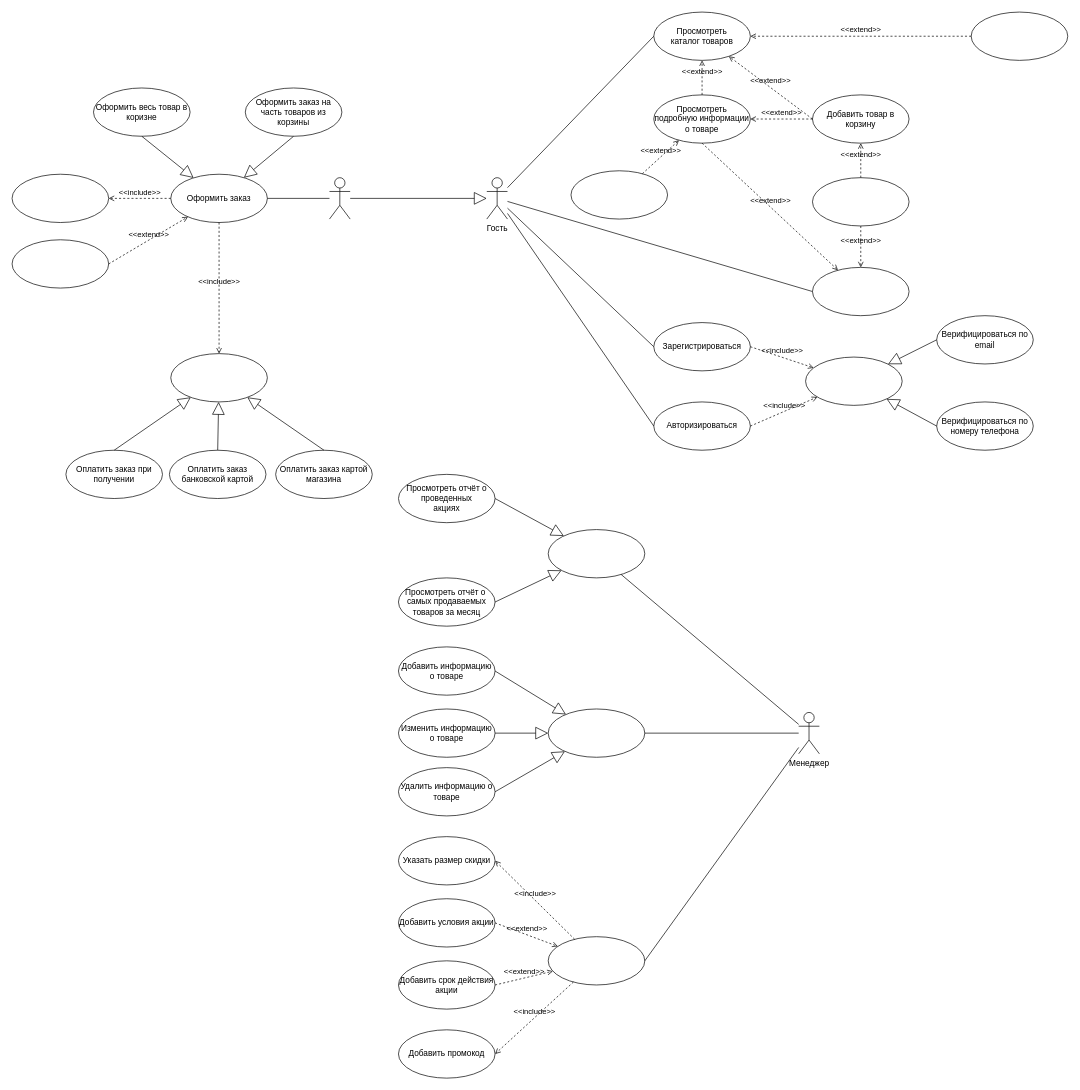
The diagram is 1080 pixels wide and 1090 high, and some of its shapes have lost their labels. Here are the shapes that lost their labels. From the top down, the centre of each, then its label:
At [1019,35]: "Фильтровать по ключевым словам".
At [60,198]: "Указать адрес доставки".
At [339,198]: "Покупатель".
At [619,194]: "Просмотреть спискок отзывов товара".
At [860,201]: "Изменить количество заказанного товара".
At [60,263]: "Указать промокод".
At [860,291]: "Просмотреть корзину".
At [218,377]: "Оплатить заказ".
At [853,380]: "Верифицироваться".
At [596,553]: "Просмотреть отчёт".
At [596,732]: "Редактировать информацию о товаре".
At [596,960]: "Создать новую акцию".
